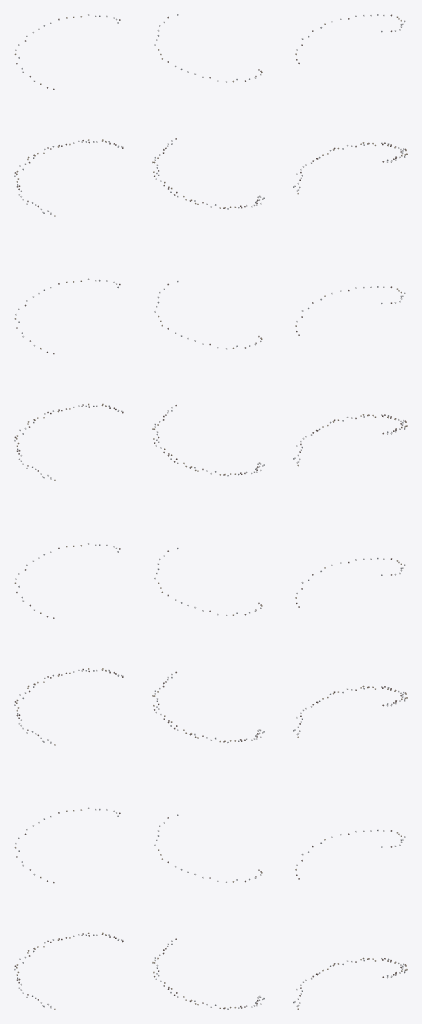
The model's file is Circle1Crowd1Heads.obj.
The picture shows the model from 3 angles, left to right: view 1: azimuth 30°, elevation 25°; view 2: azimuth 150°, elevation 25°; view 3: azimuth 330°, elevation 25°; orthographic projection. The views are drawn at different scales.
Visible parts, largest first — view 1: Circle1Crowd1Heads; view 2: Circle1Crowd1Heads; view 3: Circle1Crowd1Heads.
Part boxes in pixels (x1=…): Circle1Crowd1Heads: x1=14, y1=14, x2=123, y2=1009; Circle1Crowd1Heads: x1=152, y1=14, x2=264, y2=1009; Circle1Crowd1Heads: x1=293, y1=14, x2=407, y2=1009.
Bounding box in the file's own units: 30.09 × 291 × 25.45.
Materials: 1 (1 with a texture image).
